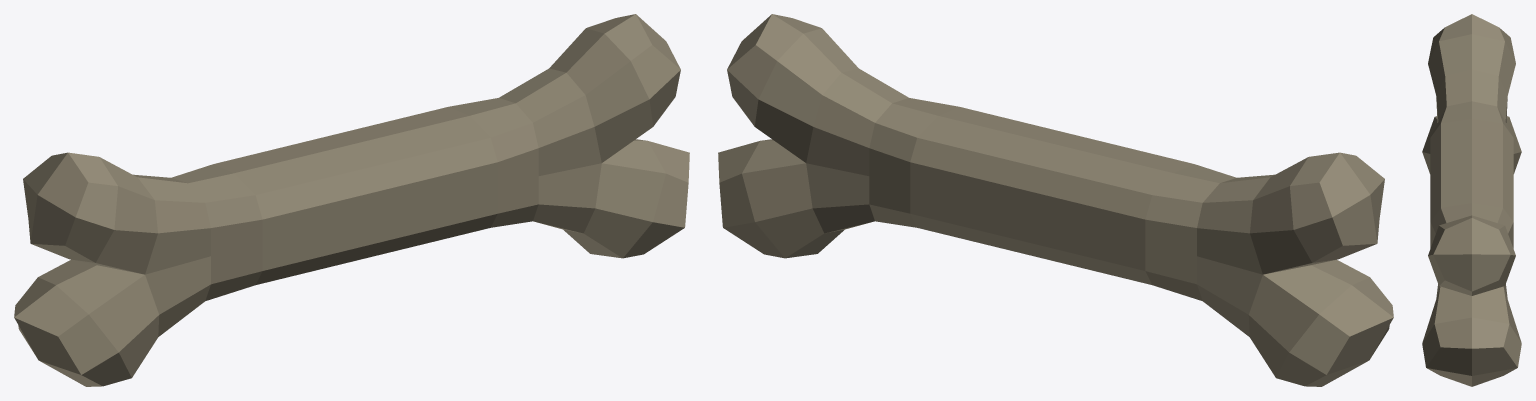
The model's file is bone.glb.
The picture shows the model from 3 angles, left to right: view 1: azimuth 30°, elevation 25°; view 2: azimuth 150°, elevation 25°; view 3: azimuth 270°, elevation 25°; orthographic projection. The views are drawn at different scales.
Parts seen in each view (by area): view 1: Bone; view 2: Bone; view 3: Bone.
Part boxes in pixels (x1,y1,x2,y2): Bone: (14,14,689,386); Bone: (718,14,1393,386); Bone: (1422,14,1521,386).
Size of the model in its own units: 1.02 by 0.3437 by 0.1768.
